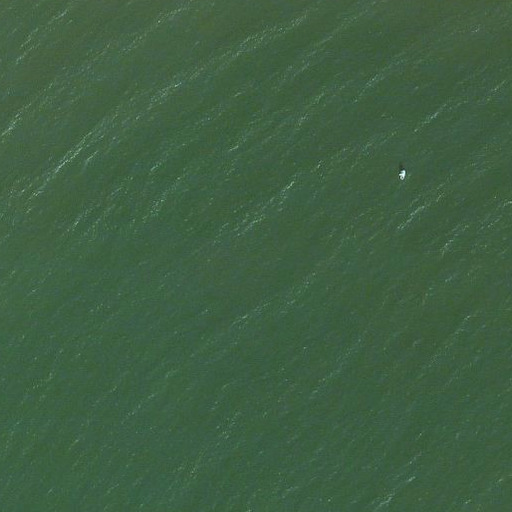ship: (396, 165, 408, 183)
